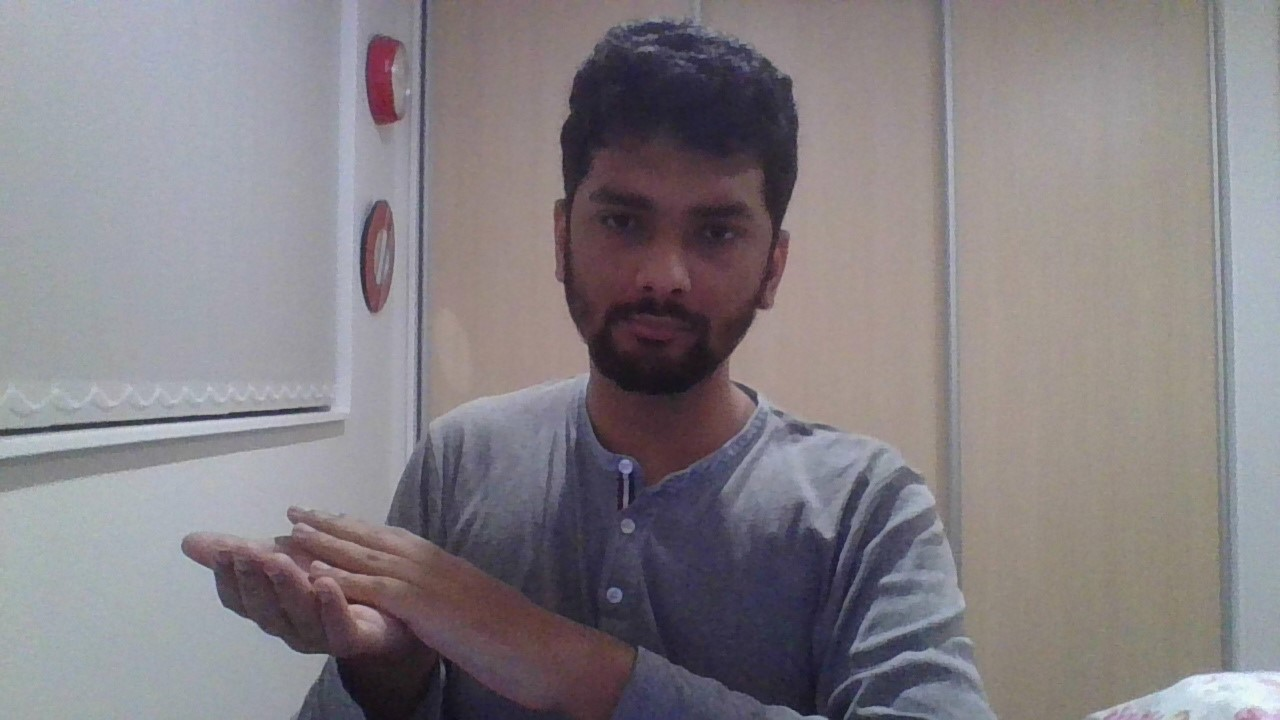clear: (180, 504, 567, 720)
